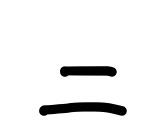eqv: (39, 65, 127, 117)
